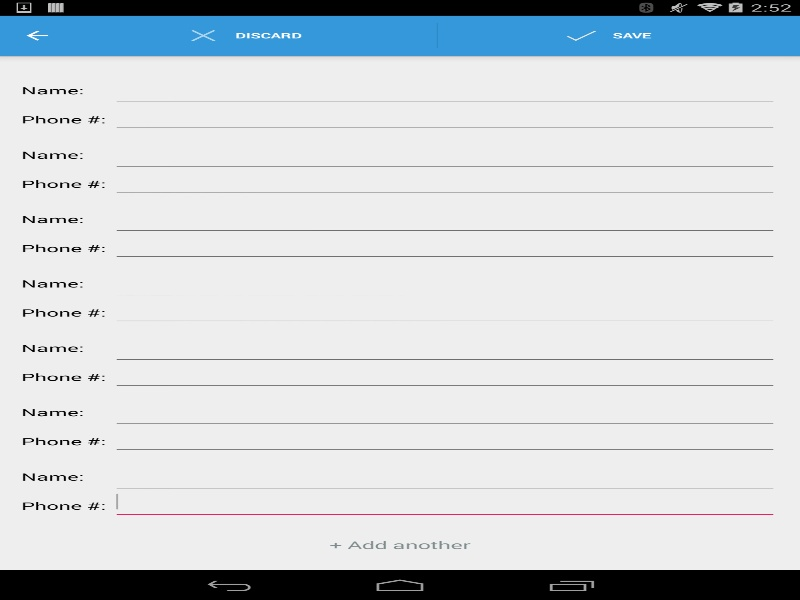Button: (21, 530, 778, 560), (0, 18, 74, 53)
Input: (111, 40, 778, 66), (111, 79, 778, 105), (111, 105, 778, 131), (111, 143, 778, 169), (111, 169, 778, 195), (111, 208, 778, 234), (111, 234, 778, 260), (111, 272, 778, 298), (111, 298, 778, 324), (111, 336, 778, 362), (111, 362, 778, 388), (111, 401, 778, 427), (111, 427, 778, 453), (111, 465, 778, 491), (111, 491, 778, 517)
